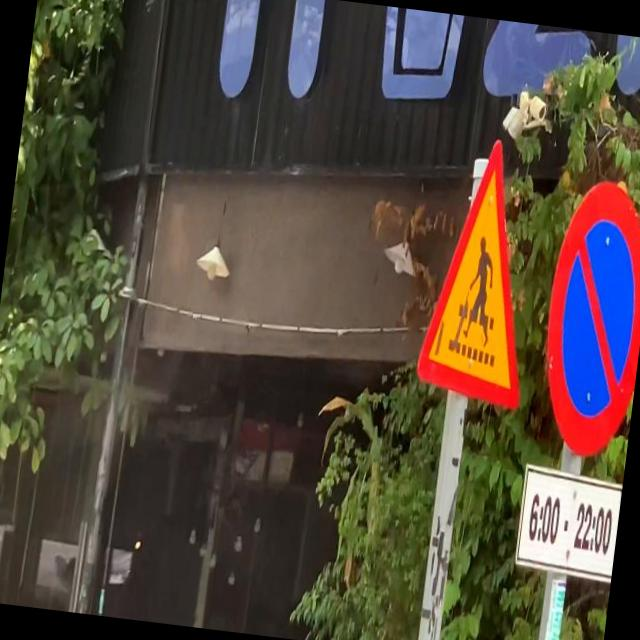P-131a: (530, 174, 640, 462)
W-224: (414, 130, 552, 418)
